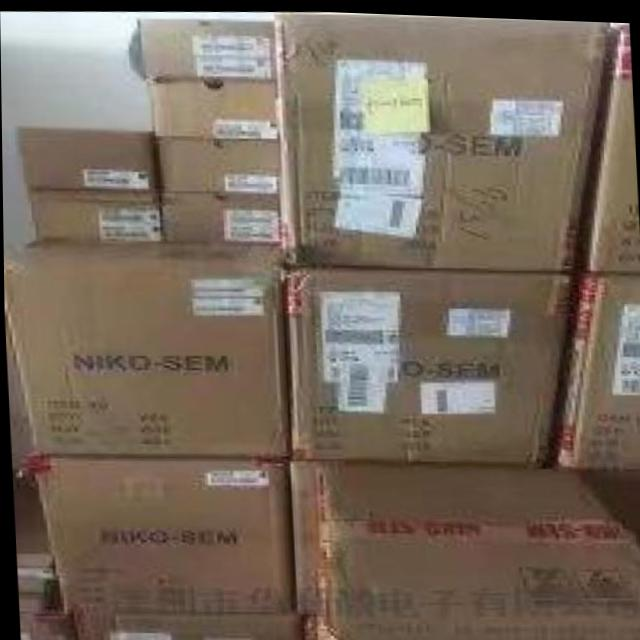box: (278, 15, 612, 270), (3, 226, 286, 455), (290, 458, 640, 640), (286, 264, 574, 465), (31, 455, 292, 614), (552, 269, 640, 466), (579, 18, 639, 269), (14, 127, 161, 191), (135, 19, 278, 80), (143, 80, 280, 138), (158, 134, 281, 192), (29, 188, 161, 240), (76, 610, 303, 640), (161, 191, 283, 242)
